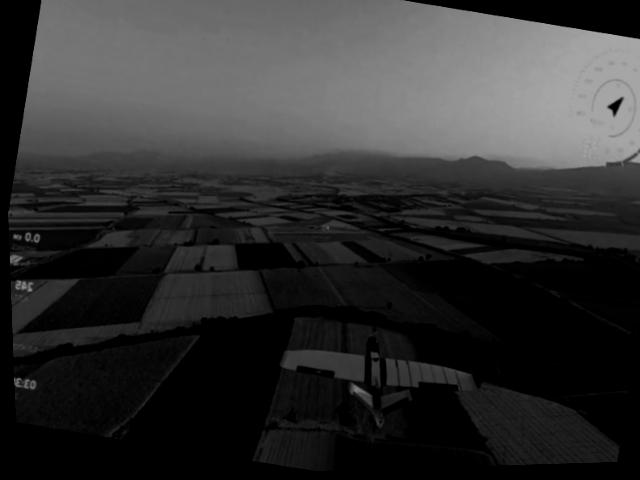hedef: (261, 309, 495, 463)
